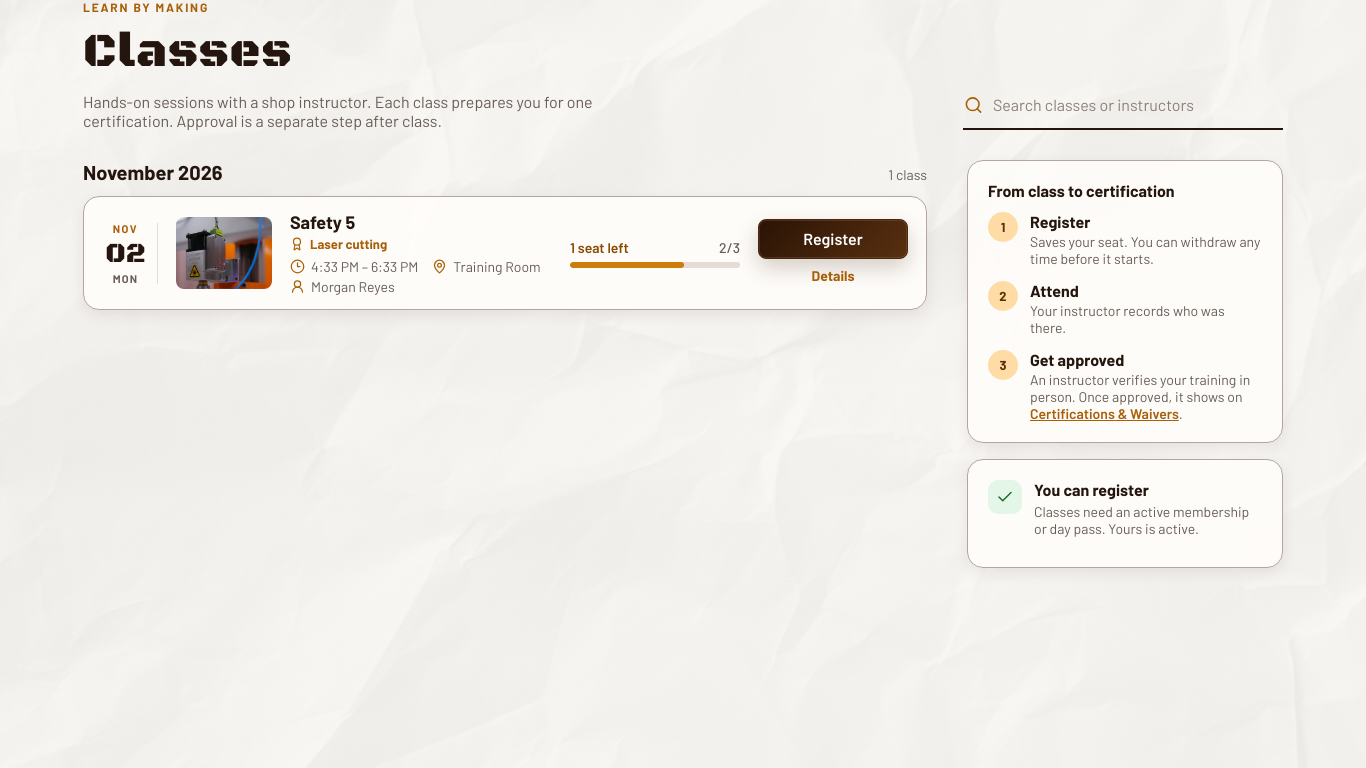
member detail shows first-name participants and no contact details
Click the button with aria-label "Details for Safety 5" at x=833, y=275, box [808,262,858,288]
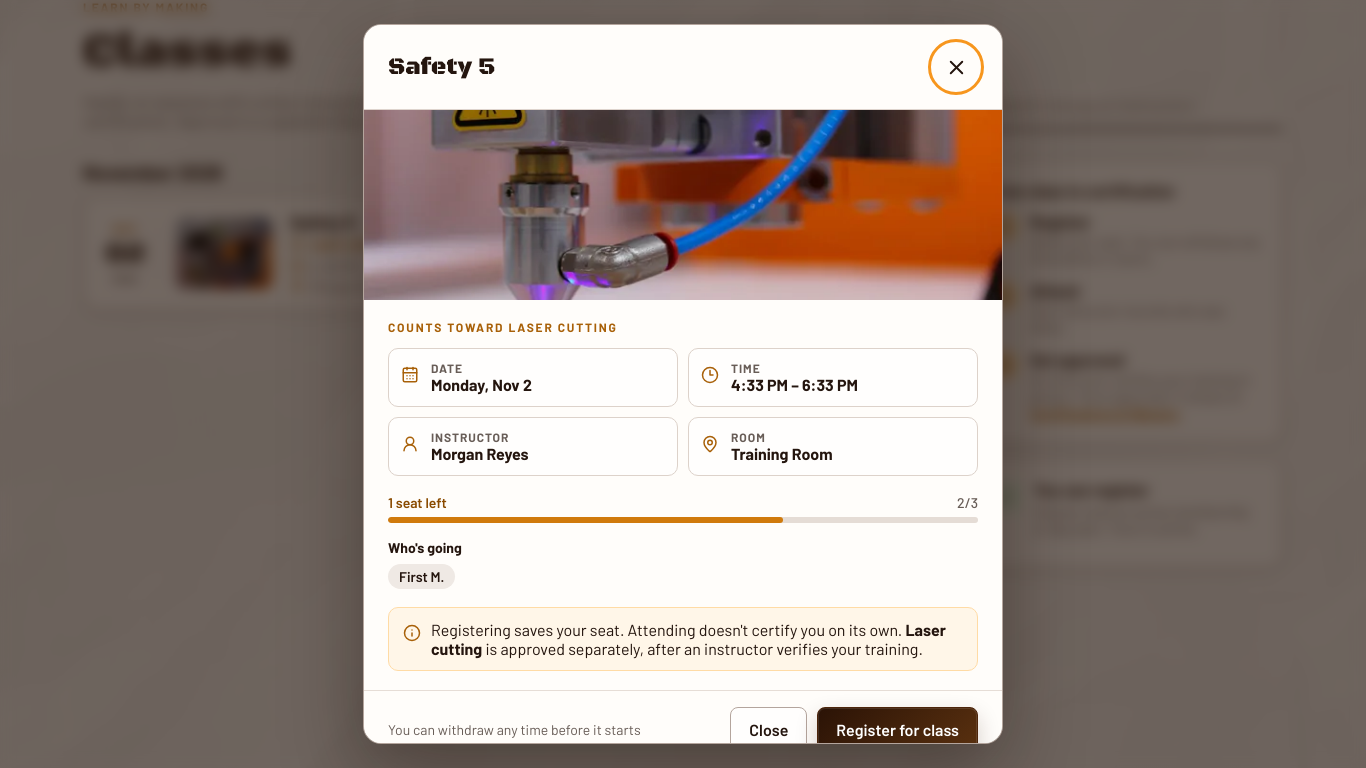
expect the list item "First M." is shown: met, box [388,564,455,589]
